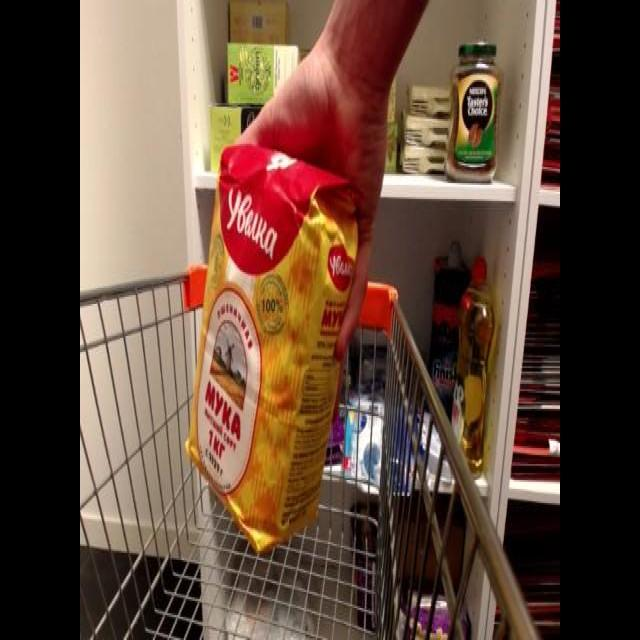Flour: (177, 136, 365, 557)
